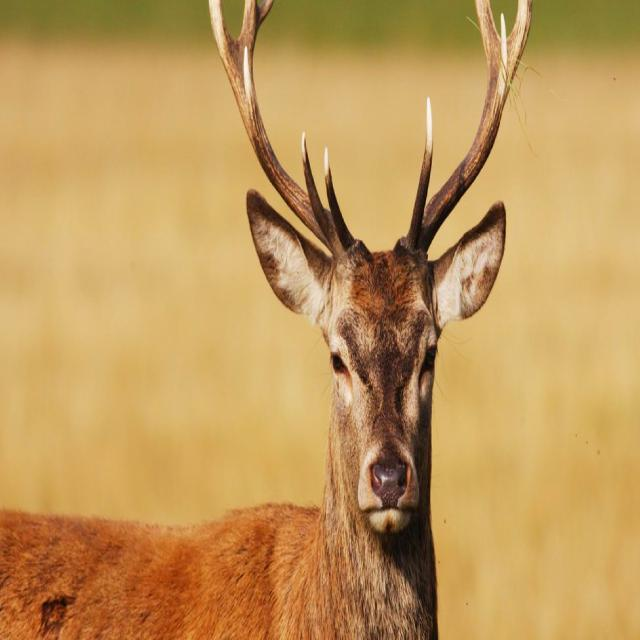deer: (1, 0, 532, 639)
